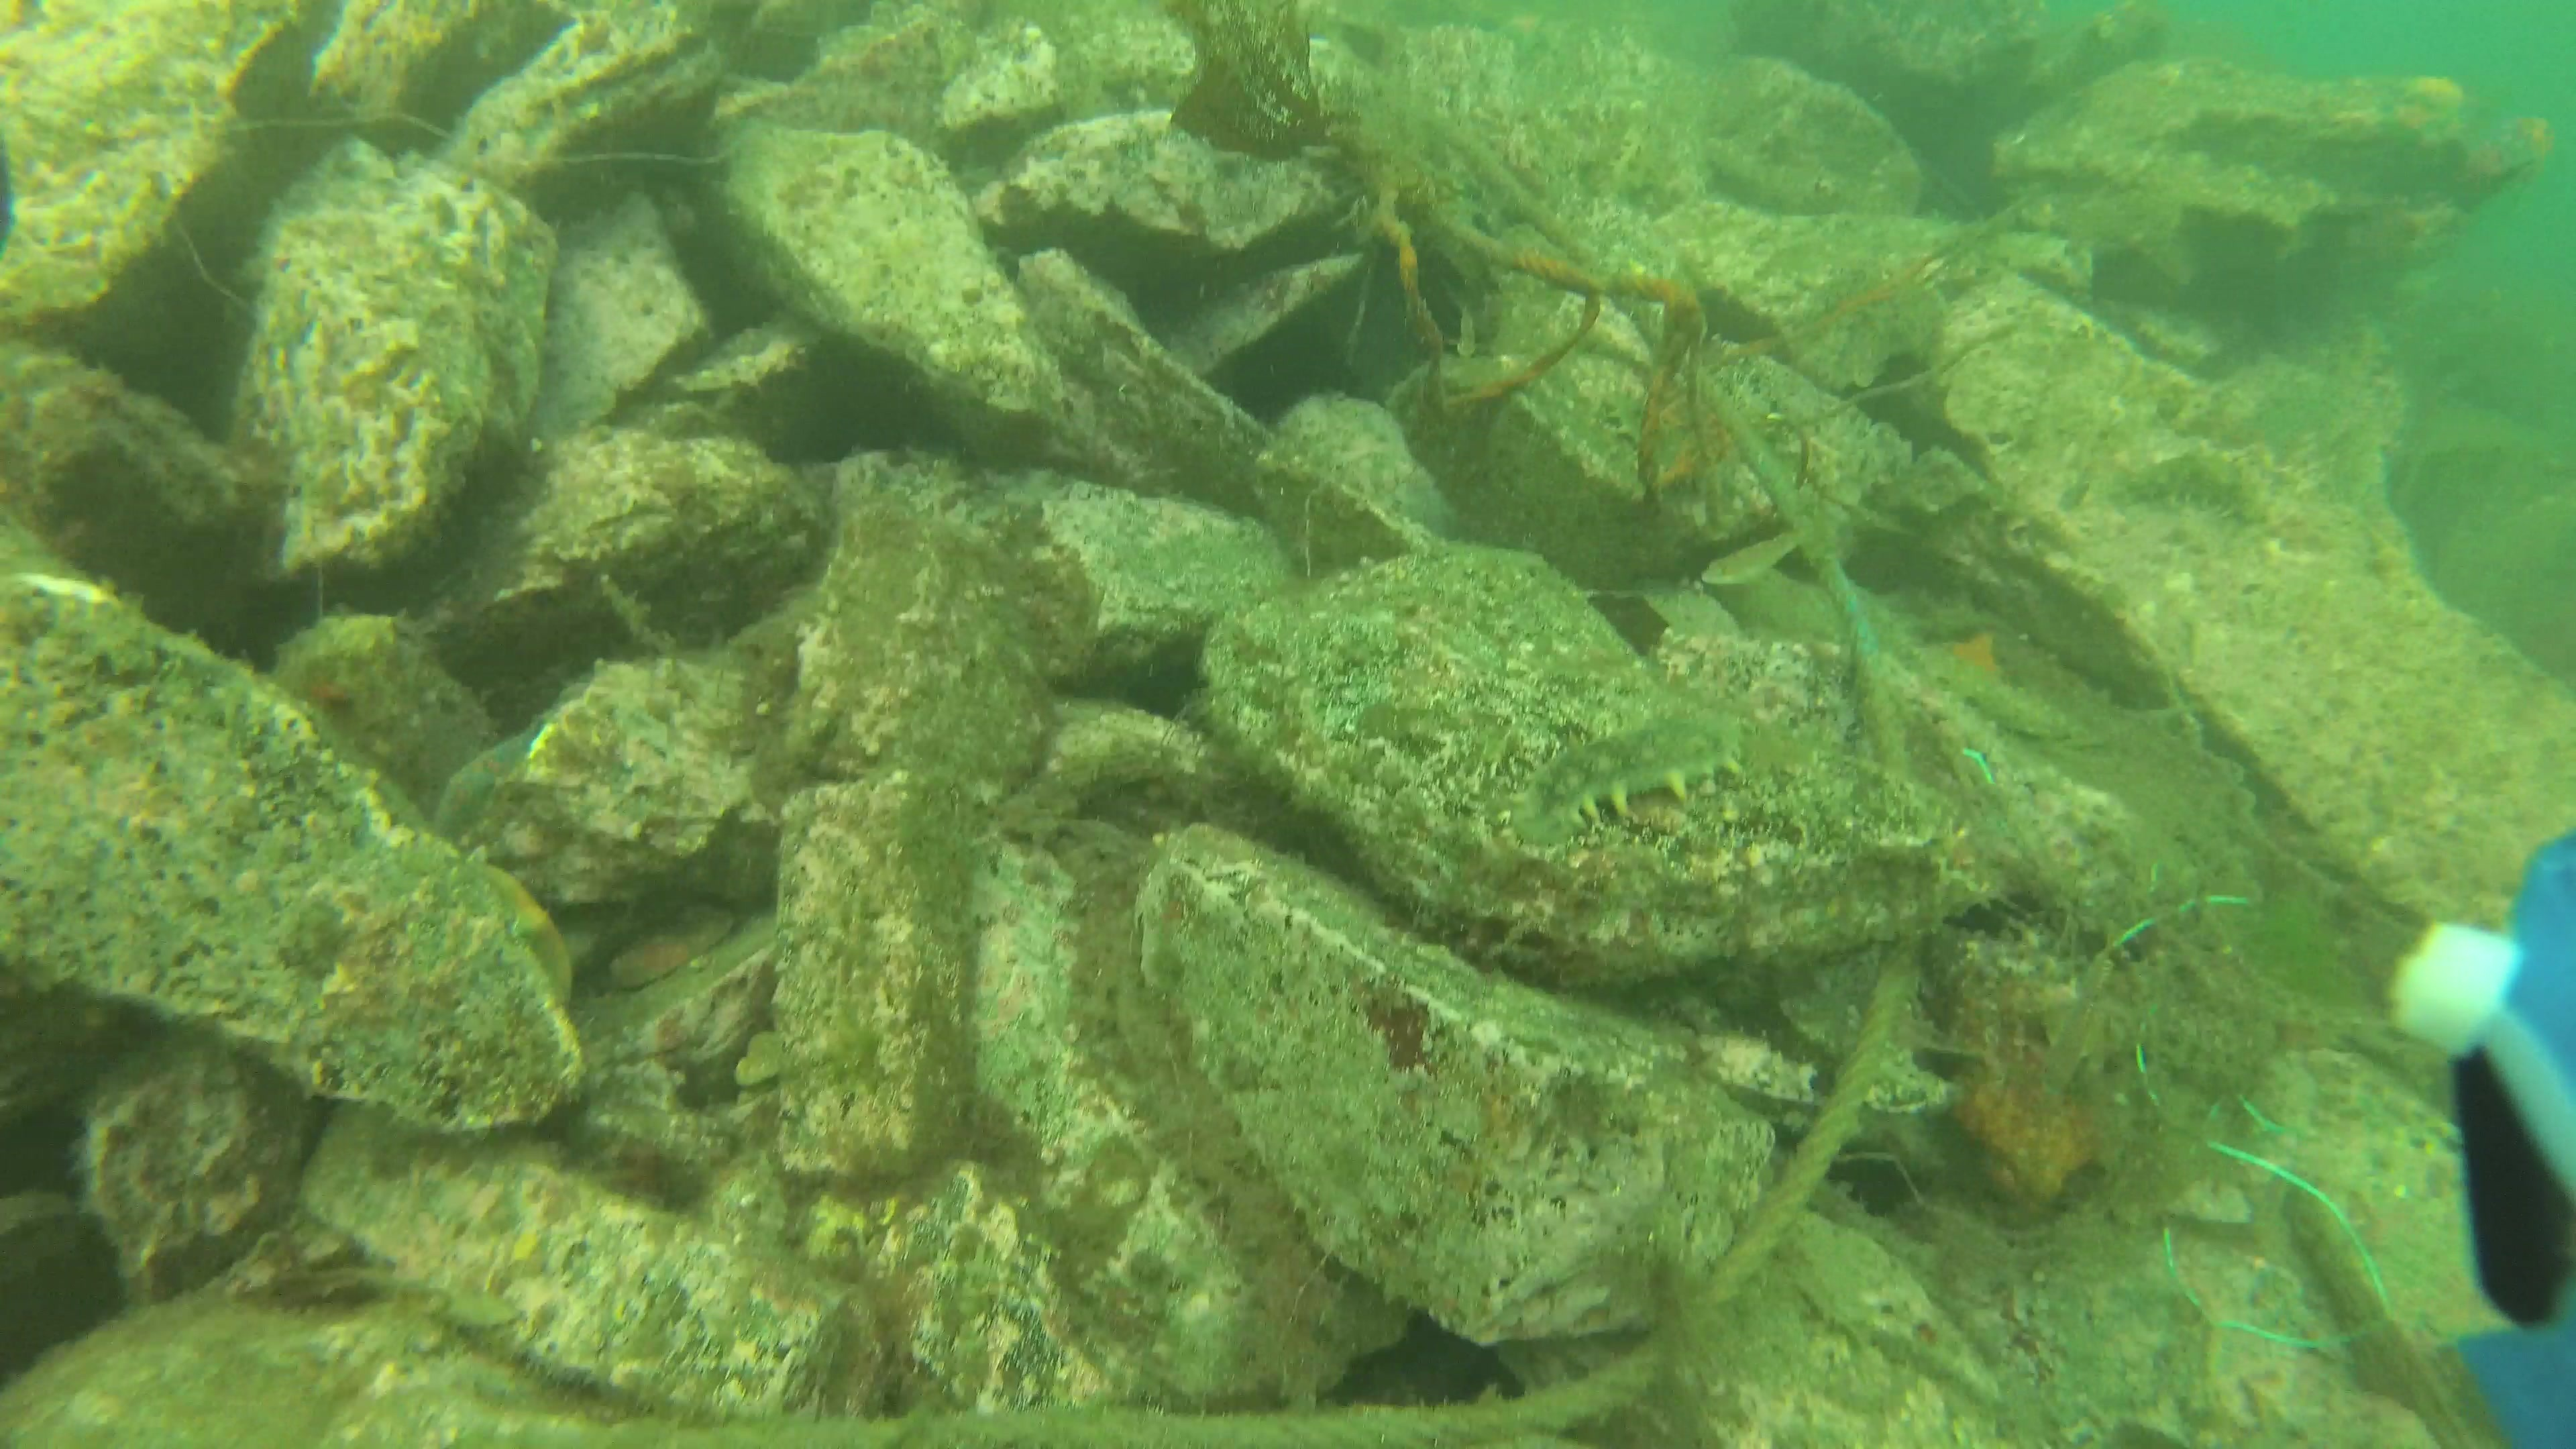holothurian: (1504, 718, 1755, 837)
